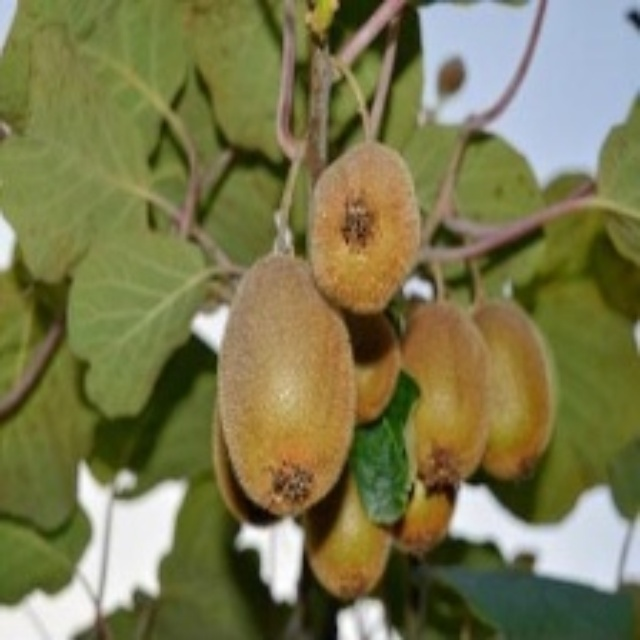kiwi: (206, 261, 357, 528), (392, 296, 502, 496), (467, 272, 572, 477), (308, 141, 426, 315), (303, 457, 408, 606)
